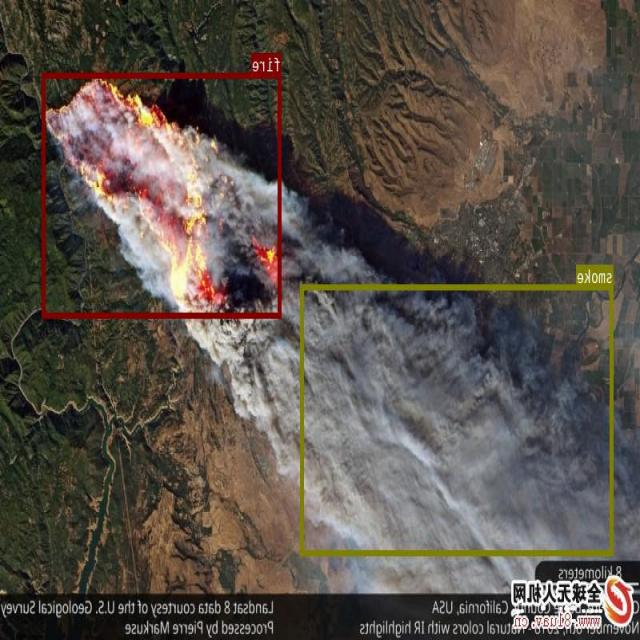fire: (42, 72, 282, 317)
smoke: (301, 284, 614, 554)
